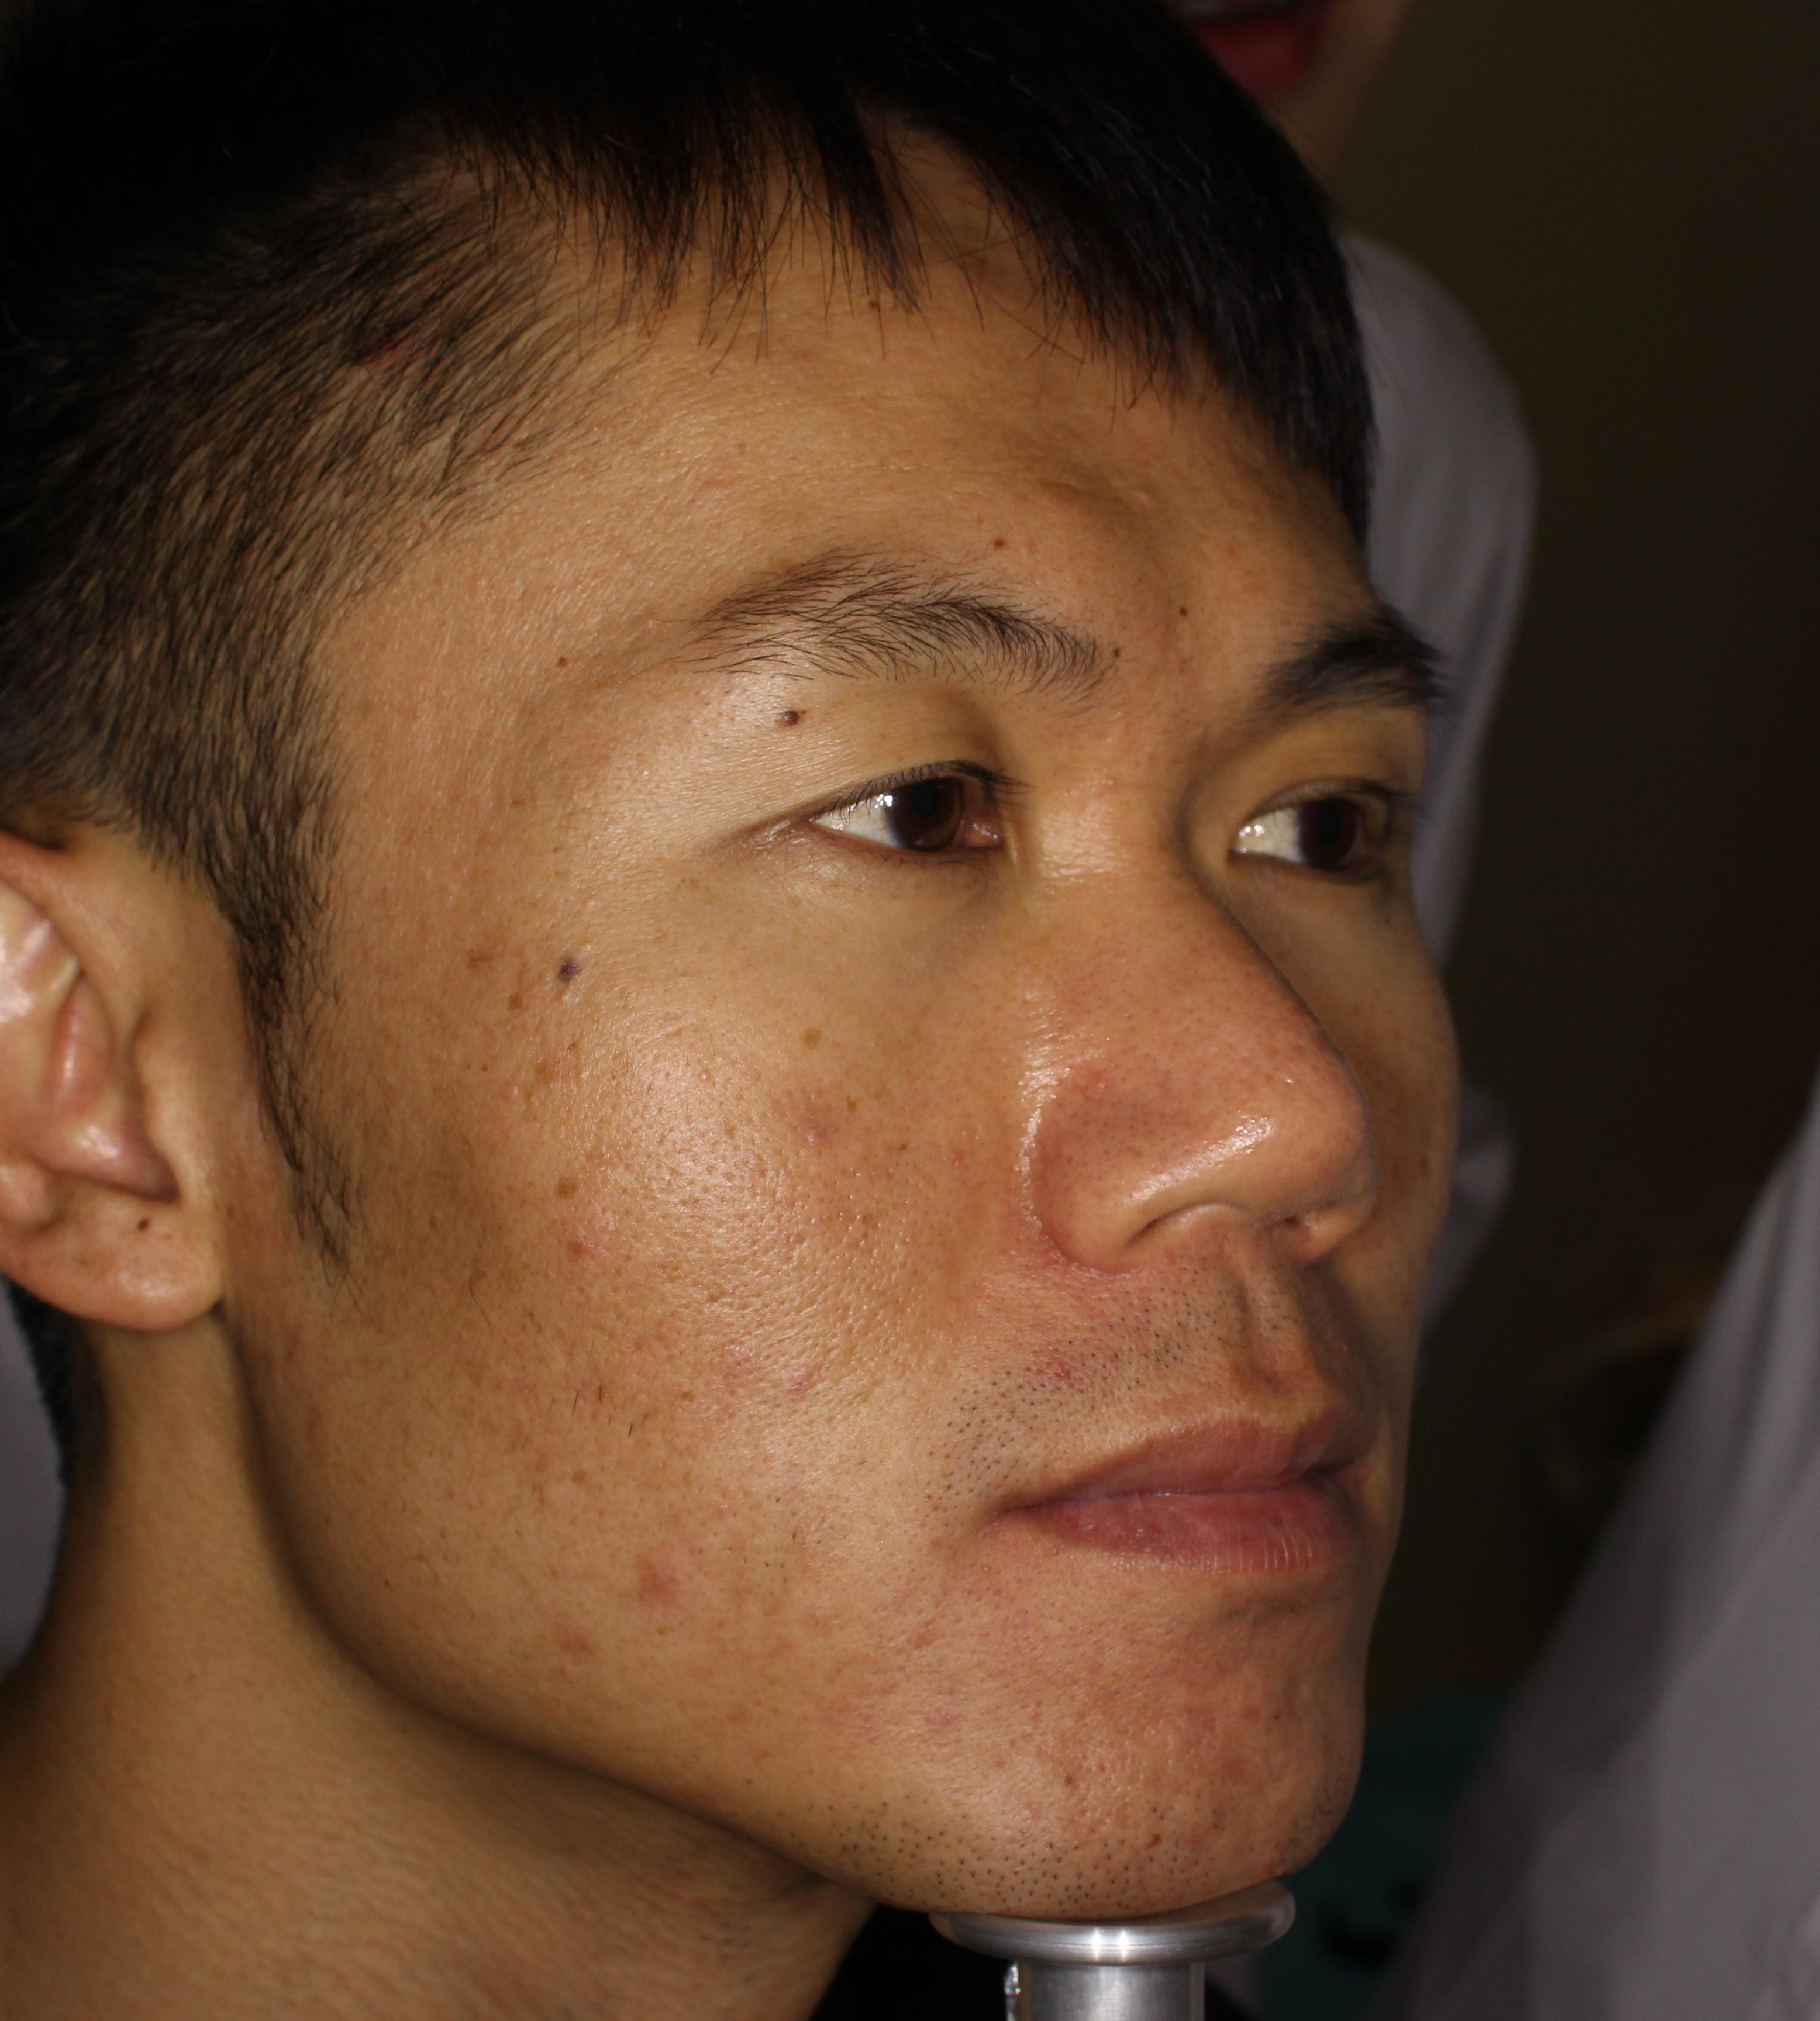fore: (597, 1536, 699, 1638), (776, 1104, 849, 1176)
